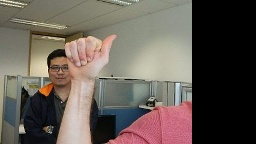Pugno: (60, 33, 116, 83)
